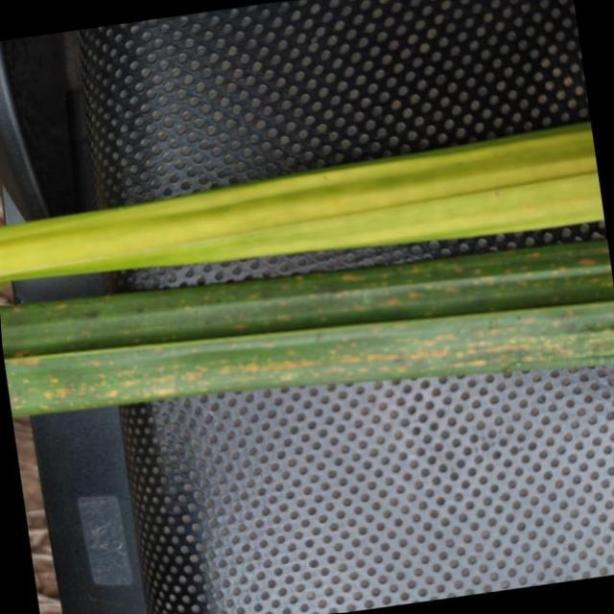nitrogen: (0, 242, 614, 428), (0, 121, 614, 290)
